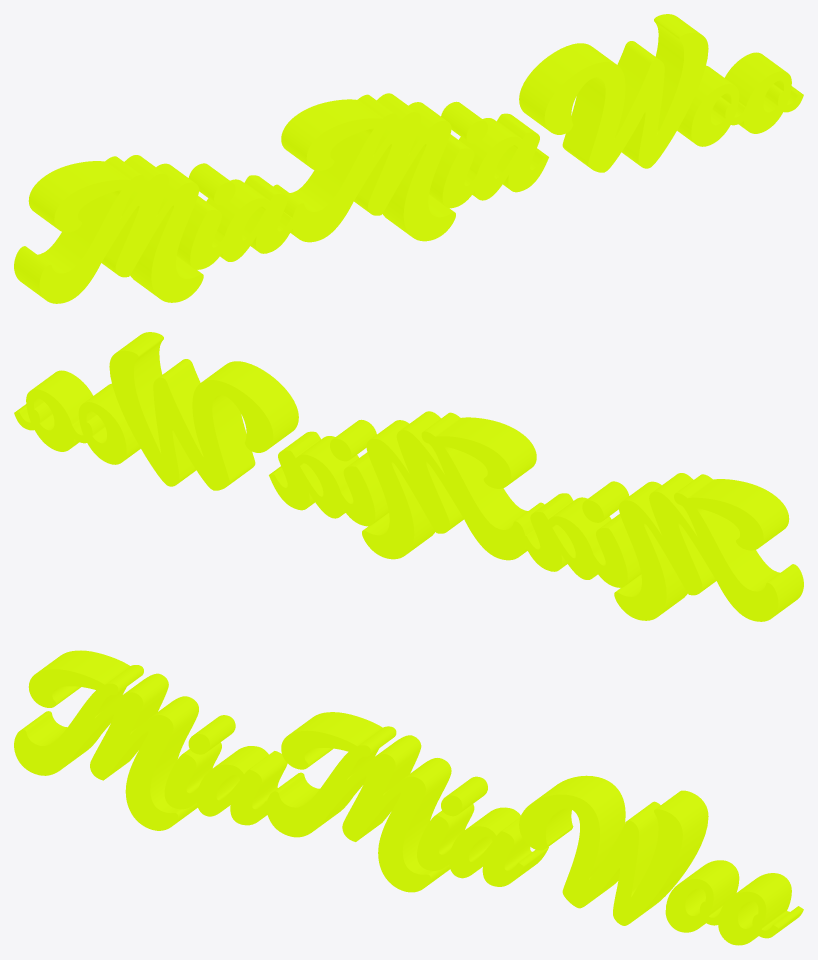
The model's file is miamia.glb.
3 renders of one model, top to bottom at view 1: azimuth 30°, elevation 25°; view 2: azimuth 150°, elevation 25°; view 3: azimuth 330°, elevation 25°, orthographic.
Visible parts, largest first — view 1: Text; view 2: Text; view 3: Text.
Part boxes in pixels (bbox=[...]): Text: bbox=[14, 14, 803, 303]; Text: bbox=[14, 332, 803, 621]; Text: bbox=[14, 650, 803, 945].
Size of the model in its own units: 3.45 by 0.6231 by 0.2.
